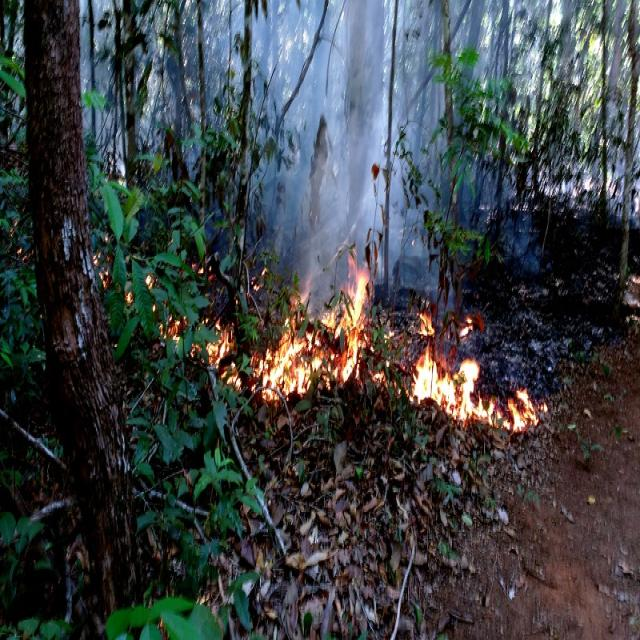fire: (324, 266, 368, 386), (412, 348, 486, 419), (260, 324, 312, 399), (492, 384, 540, 437)
